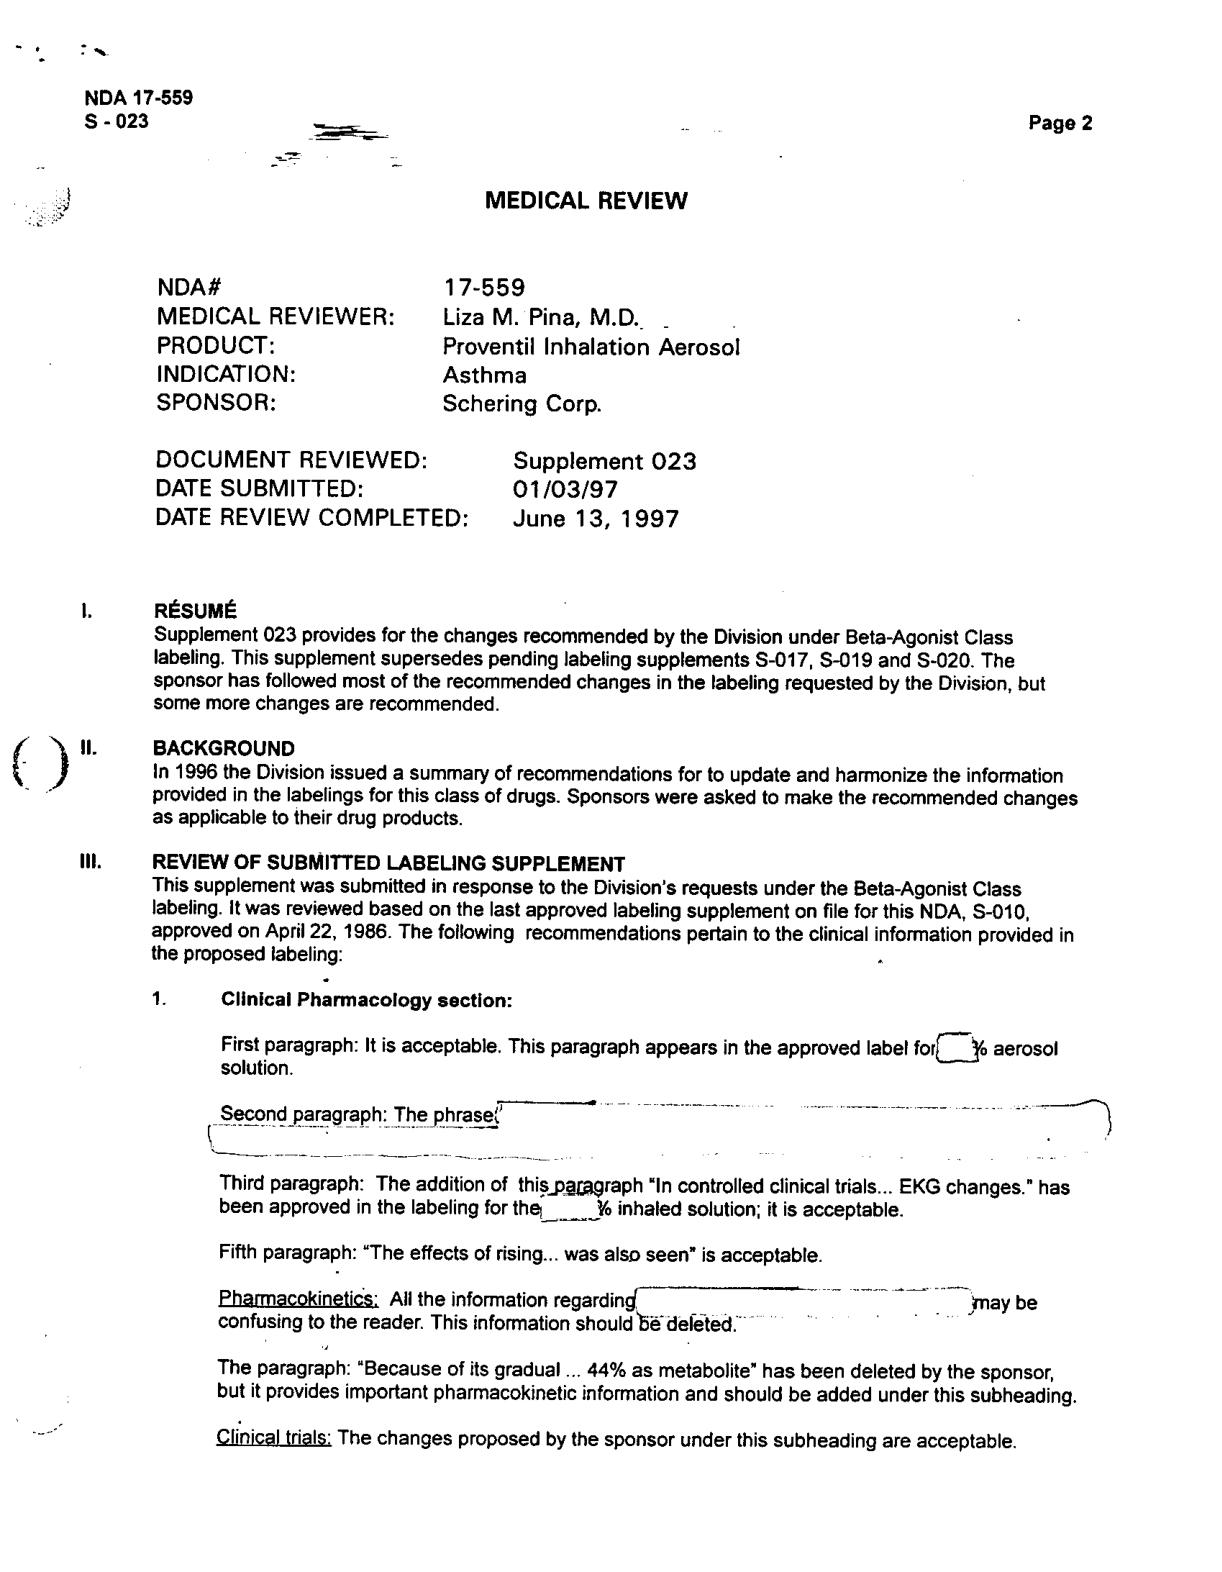nolines: (153, 271, 741, 530)
